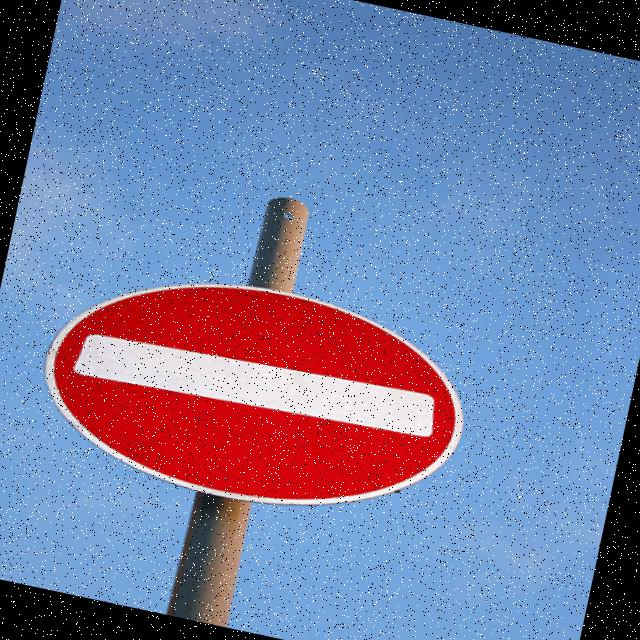do_not_enter: (23, 240, 488, 554)
